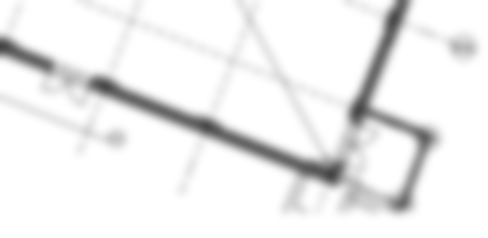double door: (41, 68, 91, 107), (343, 122, 380, 173)
